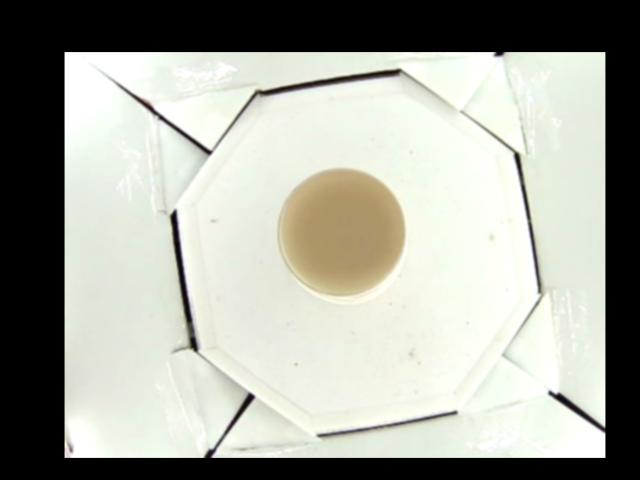Cup: (277, 165, 410, 301)
